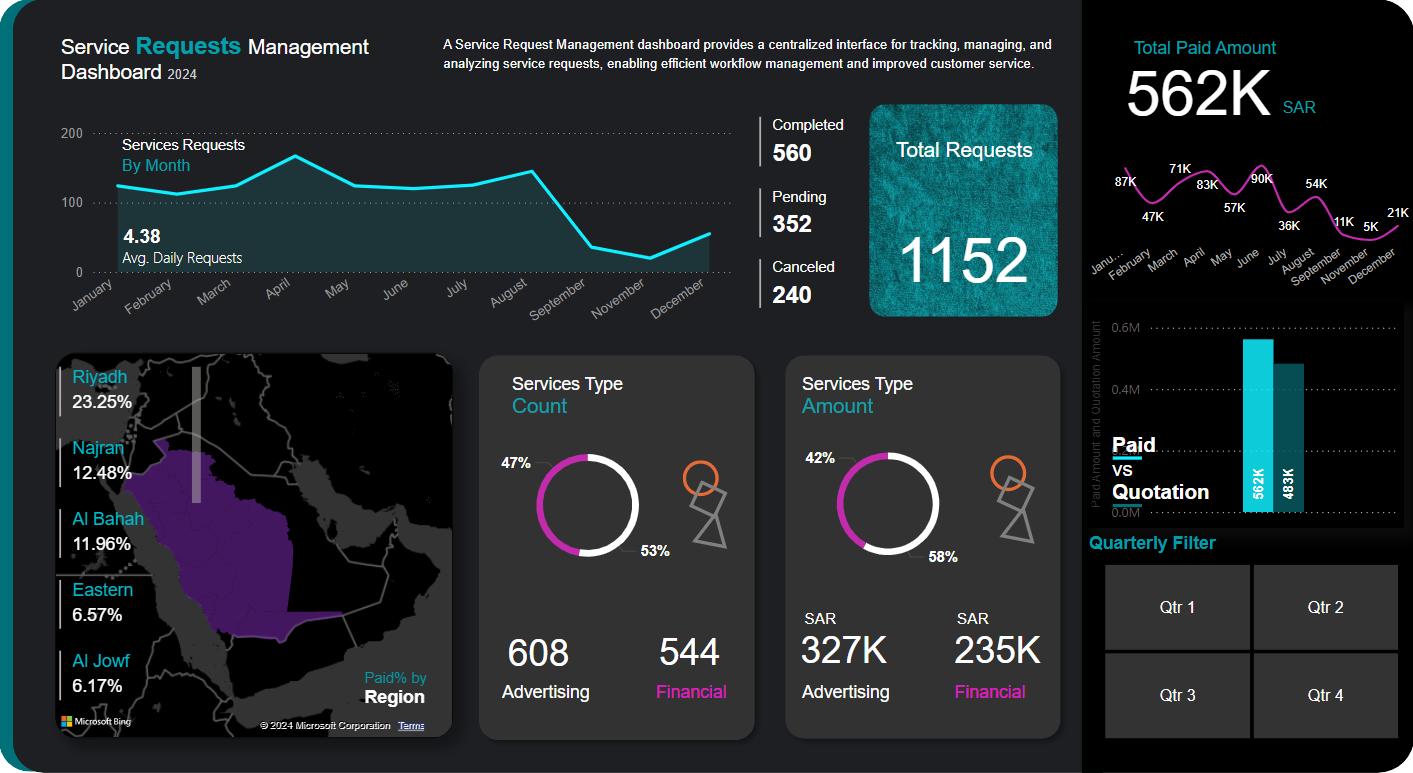

Layout of this report page (visuals, bound fields, positions):
{"tool":"powerbi","page":{"name":"Page 1","canvas":[1280,720],"ordinal":0},"visuals":[{"type":"shape","box":[0,9,999,699],"z":0},{"type":"shape","box":[702.3,322.1,267.1,365],"z":0,"group":"g1"},{"type":"shape","box":[896.5,422.3,32.6,32.6],"z":0,"group":"g2"},{"type":"shape","box":[618.4,426.7,32.6,32.6],"z":0,"group":"g3"},{"type":"shape","box":[12.8,9.3,986,700],"z":1000},{"type":"donutChart","fields":{"Category":["Service_Type.Service Type"],"Y":["Sum(Request_Status.Paid Amount)"]},"box":[720.6,393.9,168.3,144.8],"z":1000,"group":"g1"},{"type":"shape","box":[902.3,440.9,34.9,34.9],"z":1000,"group":"g2"},{"type":"shape","box":[624.2,445.3,34.9,34.9],"z":1000,"group":"g3"},{"type":"shape","box":[978.8,8.5,301.2,700],"z":2000},{"type":"textbox","box":[721.1,344,158.1,55.7],"z":2000,"group":"g1"},{"type":"shape","box":[903.5,467.6,34.9,34.9],"z":2000,"group":"g2"},{"type":"shape","box":[625.4,472,34.9,34.9],"z":2000,"group":"g3"},{"type":"textbox","box":[51.2,34.9,308.1,57],"z":3000},{"type":"card","fields":{"Values":["Service_Type.Advertising Paid Amount"]},"box":[691.9,554.7,144.2,84.7],"z":3000,"group":"g1"},{"type":"lineChart","fields":{"Category":["Locations.Date.Variation.Date Hierarchy.Month"],"Y":["CountNonNull(Locations.Request Number)"]},"box":[45.2,116.5,624.1,205.8],"z":4000},{"type":"card","fields":{"Values":["Service_Type.Financial Paid Amount"]},"box":[830.5,554.7,144.2,84.7],"z":4000,"group":"g1"},{"type":"textbox","box":[105.8,126.7,184.9,50],"z":5000},{"type":"textbox","box":[721,622.2,102.3,47.6],"z":5000,"group":"g1"},{"type":"textbox","box":[859.3,621.9,102.3,47.6],"z":6000,"group":"g1"},{"type":"textbox","box":[448.8,622.1,102.3,47.7],"z":6000},{"type":"card","fields":{"Values":["Locations.Avg. of Daily Requests"]},"box":[70,177,119,96],"z":7000},{"type":"textbox","box":[723.3,554.7,102.3,47.6],"z":7000,"group":"g1"},{"type":"textbox","box":[106.3,228.4,183.2,45.2],"z":8000},{"type":"textbox","box":[861.7,554.7,102.3,47.6],"z":8000,"group":"g1"},{"type":"multiRowCard","fields":{"Values":["Request_Status.Request Number","Request_Status.Request Status"]},"box":[683,111,132,208],"z":9000},{"type":"image","box":[782.6,100,180.2,202],"z":10000},{"type":"textbox","box":[781.4,130.2,183.7,37.2],"z":11000},{"type":"card","fields":{"Values":["CountNonNull(Request_Status.Request Number)"]},"box":[759.3,179.1,224.4,125.6],"z":12000},{"type":"textbox","box":[998.8,39.5,184.9,50],"z":13000},{"type":"card","fields":{"Values":["Sum(Request_Status.Paid Amount)"]},"box":[939,50,293,80],"z":14000},{"type":"textbox","box":[1120.9,93,111.6,36],"z":15000},{"type":"lineChart","fields":{"Category":["Locations.Date.Variation.Date Hierarchy.Month"],"Y":["Sum(Request_Status.Paid Amount)"]},"box":[979.1,138.4,301.2,144.2],"z":16000},{"type":"clusteredColumnChart","fields":{"Y":["Sum(Request_Status.Paid Amount)","Sum(Request_Status.Quotation Amount)"]},"box":[983.7,282.6,287.2,204.7],"z":17000},{"type":"textbox","box":[1002.3,396.5,167.4,79.1],"z":18000},{"type":"shape","box":[1007,414,26.7,20.9],"z":19000},{"type":"shape","box":[1007,457,26.7,20.9],"z":20000},{"type":"filledMap","fields":{"Category":["Locations.Province"]},"box":[50.6,329,360,349],"z":21000},{"type":"textbox","box":[325.7,608.4,85,47.9],"z":22000},{"type":"shape","box":[425.6,322.1,267.4,366.3],"z":23000},{"type":"group","id":"g1","title":"Group 1","box":[691.9,322.1,282.8,365],"z":24000},{"type":"card","fields":{"Values":["Service_Type.Financial Count"]},"box":[552.5,555.8,144.2,84.9],"z":25000},{"type":"textbox","box":[459.3,344.2,158.1,52.3],"z":26000},{"type":"card","fields":{"Values":["Service_Type.Advertising Count"]},"box":[416.3,557,144.2,84.9],"z":27000},{"type":"donutChart","fields":{"Category":["Service_Type.Service Type"],"Y":["CountNonNull(Service_Type.Request Number)"]},"box":[448.8,394.2,167.4,145.3],"z":28000},{"type":"textbox","box":[589.5,622.1,102.3,47.7],"z":29000},{"type":"textbox","box":[450,622.1,102.3,47.7],"z":30000},{"type":"advancedSlicerVisual","fields":{"Values":["Locations.Date.Variation.Date Hierarchy.Quarter"]},"box":[1001.2,501.2,265.1,197.7],"z":31000},{"type":"multiRowCard","fields":{"Values":["Locations.Province","Sum(Service_Type.Paid Amount)"]},"box":[50.3,336.5,137.7,319.8],"z":32000},{"type":"textbox","box":[986,492,187.2,39.5],"z":33000},{"type":"group","id":"g2","title":"Group 2","box":[896.5,422.3,41.9,80.2],"z":34000},{"type":"group","id":"g3","title":"Group 2","box":[618.4,426.7,41.9,80.2],"z":35000},{"type":"textbox","box":[431.9,35.1,474.9,79.1],"z":36000}]}

Visuals, with their boxes in screenshot pixels (x1, y1, x2, y2), scaled from the page's 1280x720 canvas onto the 1413x773 screenshot:
shape: [0, 10, 1103, 760]
shape: [775, 346, 1070, 738]
shape: [990, 453, 1026, 488]
shape: [683, 458, 719, 493]
shape: [14, 10, 1103, 762]
donutChart - Service_Type.Service Type x Sum(Request_Status.Paid Amount): [795, 423, 981, 578]
shape: [996, 473, 1035, 511]
shape: [689, 478, 728, 516]
shape: [1081, 9, 1412, 761]
textbox: [796, 369, 971, 429]
shape: [997, 502, 1036, 539]
shape: [690, 507, 729, 544]
textbox: [57, 37, 397, 99]
card - Service_Type.Advertising Paid Amount: [764, 596, 923, 686]
lineChart - Locations.Date.Variation.Date Hierarchy.Month x CountNonNull(Locations.Request Number): [50, 125, 739, 346]
card - Service_Type.Financial Paid Amount: [917, 596, 1076, 686]
textbox: [117, 136, 321, 190]
textbox: [796, 668, 909, 719]
textbox: [949, 668, 1062, 719]
textbox: [495, 668, 608, 719]
card - Locations.Avg. of Daily Requests: [77, 190, 209, 293]
textbox: [798, 596, 911, 647]
textbox: [117, 245, 320, 294]
textbox: [951, 596, 1064, 647]
multiRowCard - Request_Status.Request Number x Request_Status.Request Status: [754, 119, 900, 342]
image: [864, 107, 1063, 324]
textbox: [863, 140, 1065, 180]
card - CountNonNull(Request_Status.Request Number): [838, 192, 1086, 327]
textbox: [1103, 42, 1307, 96]
card - Sum(Request_Status.Paid Amount): [1037, 54, 1360, 140]
textbox: [1237, 100, 1361, 138]
lineChart - Locations.Date.Variation.Date Hierarchy.Month x Sum(Request_Status.Paid Amount): [1081, 149, 1412, 303]
clusteredColumnChart - Sum(Request_Status.Paid Amount) x Sum(Request_Status.Quotation Amount): [1086, 303, 1403, 523]
textbox: [1106, 426, 1291, 511]
shape: [1112, 444, 1141, 467]
shape: [1112, 491, 1141, 513]
filledMap - Locations.Province: [56, 353, 453, 728]
textbox: [360, 653, 453, 705]
shape: [470, 346, 765, 739]
"Group 1" group: [764, 346, 1076, 738]
card - Service_Type.Financial Count: [610, 597, 769, 688]
textbox: [507, 370, 682, 426]
card - Service_Type.Advertising Count: [460, 598, 619, 689]
donutChart - Service_Type.Service Type x CountNonNull(Service_Type.Request Number): [495, 423, 680, 579]
textbox: [651, 668, 764, 719]
textbox: [497, 668, 610, 719]
advancedSlicerVisual - Locations.Date.Variation.Date Hierarchy.Quarter: [1105, 538, 1398, 750]
multiRowCard - Locations.Province x Sum(Service_Type.Paid Amount): [56, 361, 208, 705]
textbox: [1088, 528, 1295, 571]
"Group 2" group: [990, 453, 1036, 539]
"Group 2" group: [683, 458, 729, 544]
textbox: [477, 38, 1001, 123]
